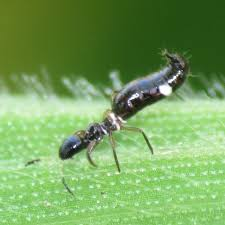Phlaeothripidae: (23, 46, 194, 193)
